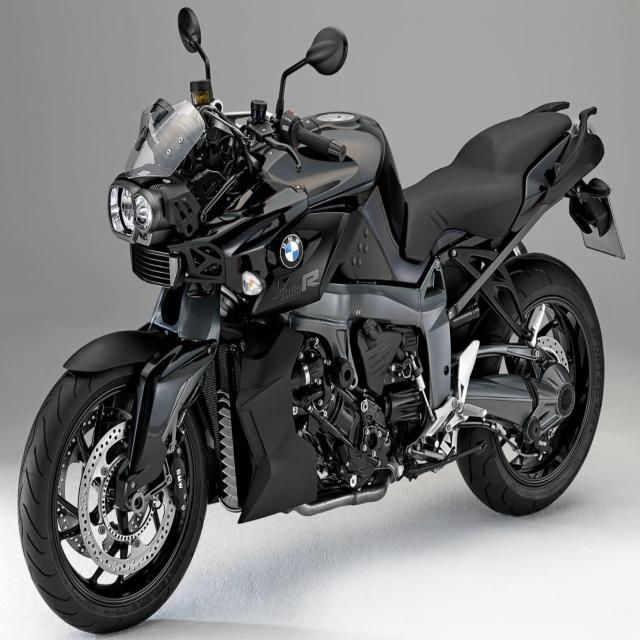bike: (15, 7, 627, 637)
